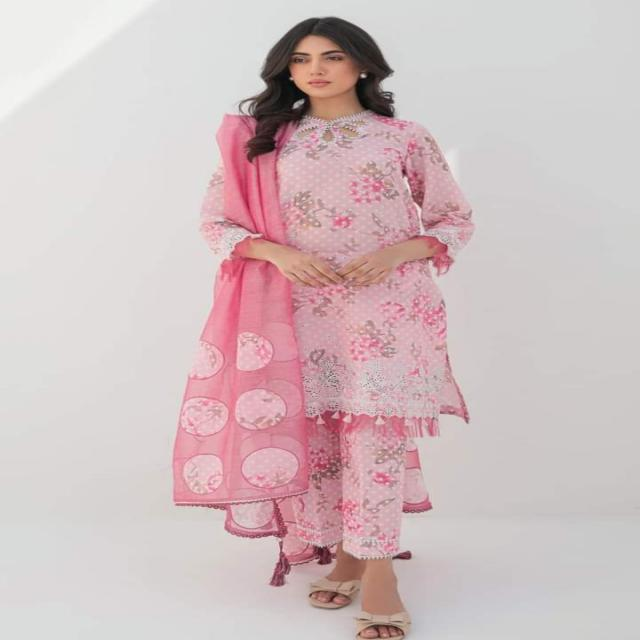female-dress: (189, 113, 501, 582)
